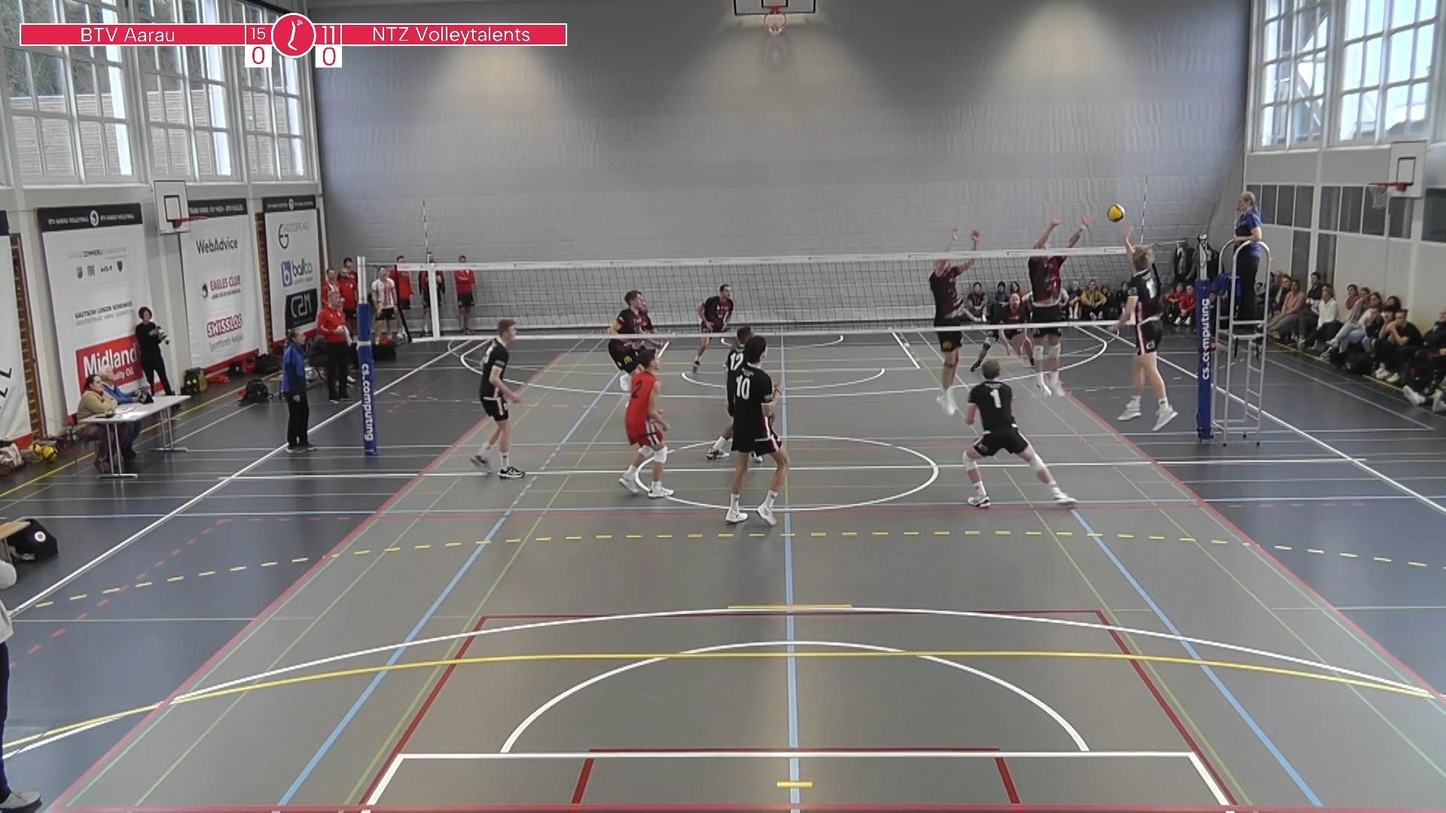Attack: (1103, 223, 1195, 429)
Block: (1018, 212, 1094, 405), (913, 225, 981, 416)
Player: (963, 359, 1075, 507), (726, 335, 789, 525), (471, 319, 523, 478), (619, 349, 673, 498), (706, 326, 752, 460), (970, 294, 1032, 372), (692, 285, 734, 373), (608, 290, 642, 391), (642, 336, 667, 351)
ball: (1110, 202, 1127, 229)
